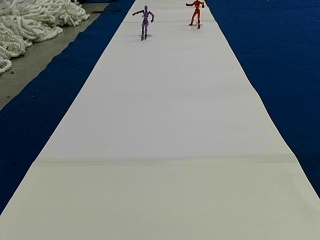pedestrian: (132, 5, 153, 39), (185, 0, 204, 27)
